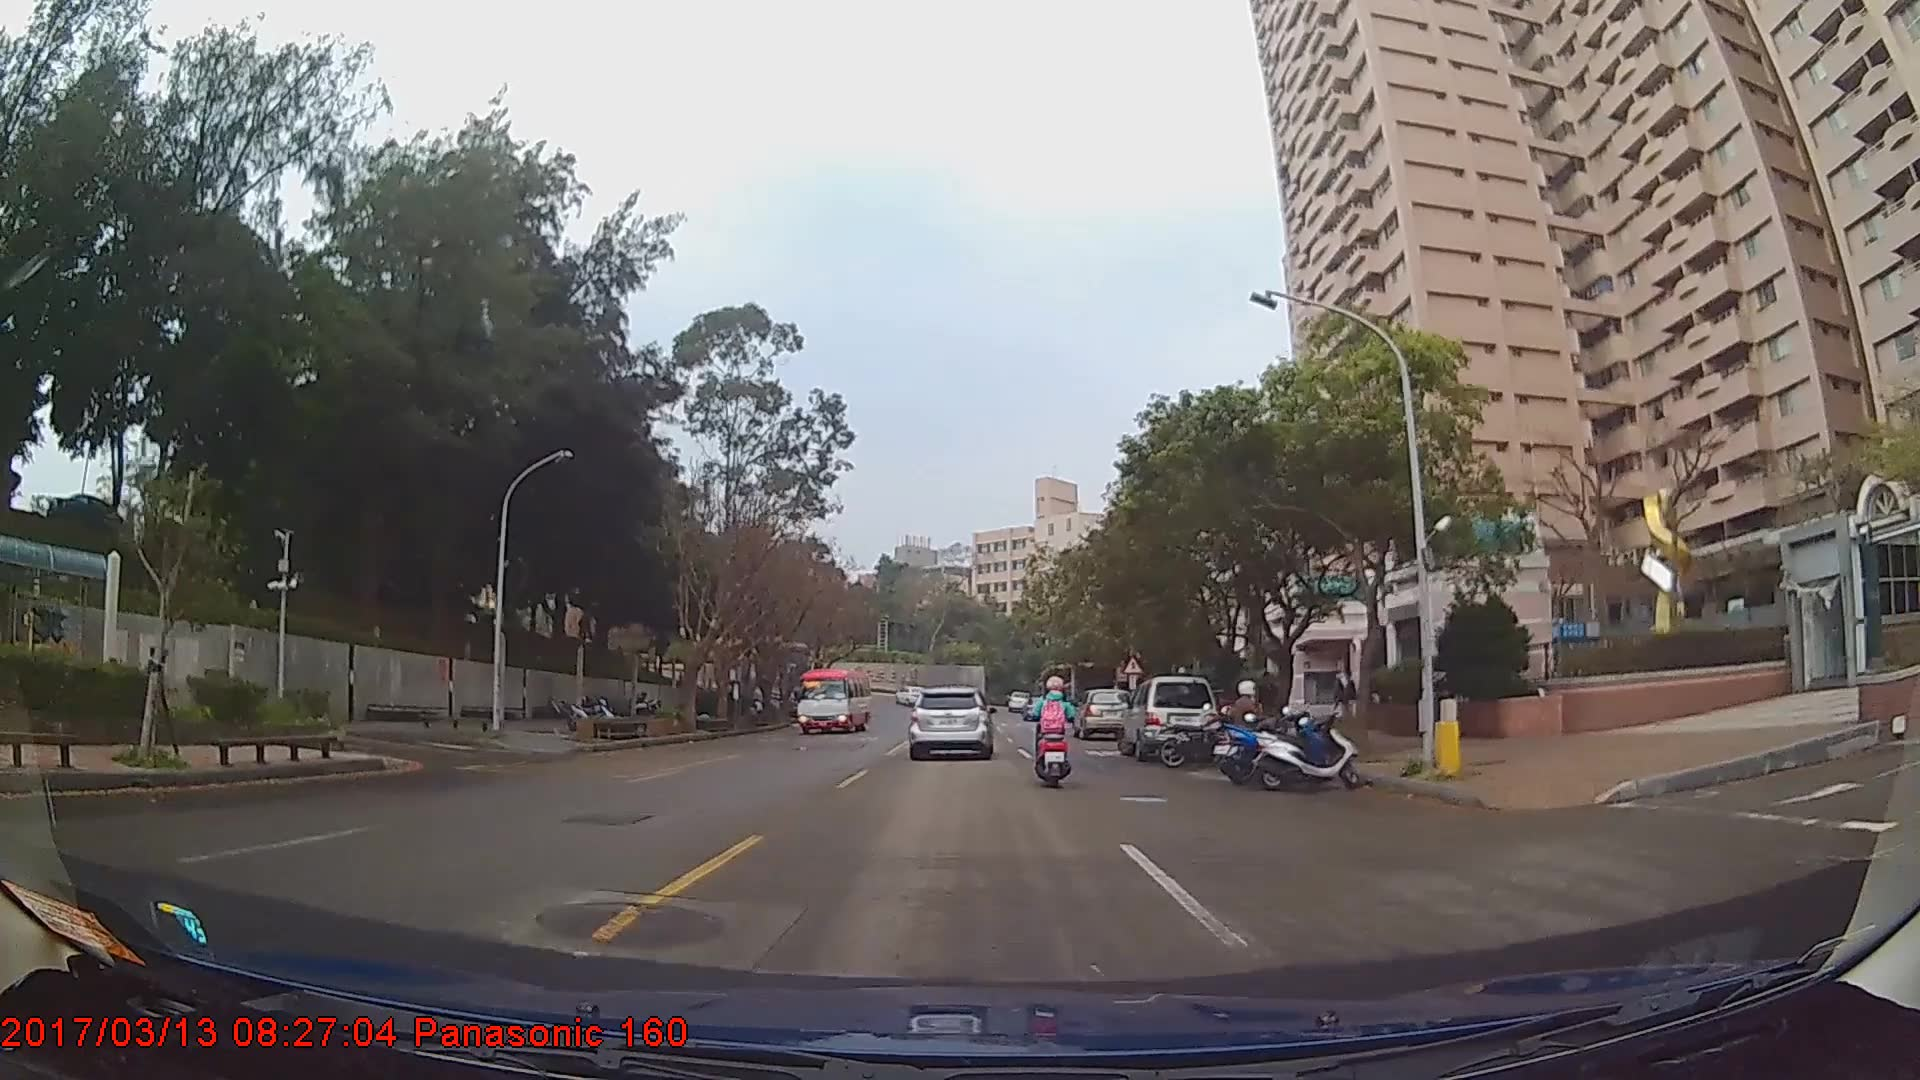rider: (1034, 672, 1083, 791), (1221, 676, 1274, 772)
vehicle: (1117, 673, 1216, 761), (907, 683, 992, 760), (795, 665, 871, 732), (1075, 687, 1133, 739), (892, 681, 927, 703)
